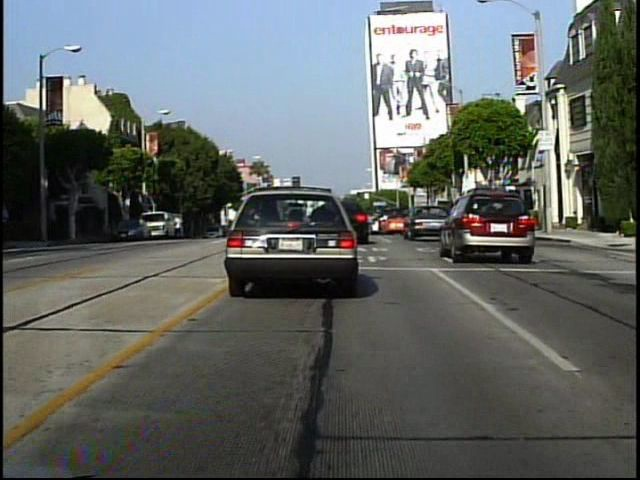person: (173, 211, 185, 242)
